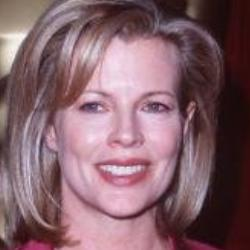face: (1, 4, 217, 235)
